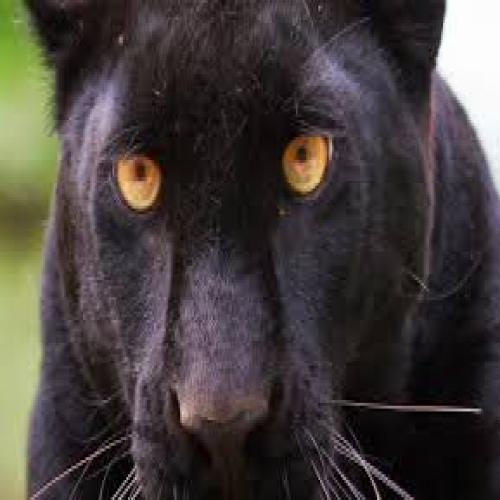panther-endangered: (28, 4, 490, 489)
